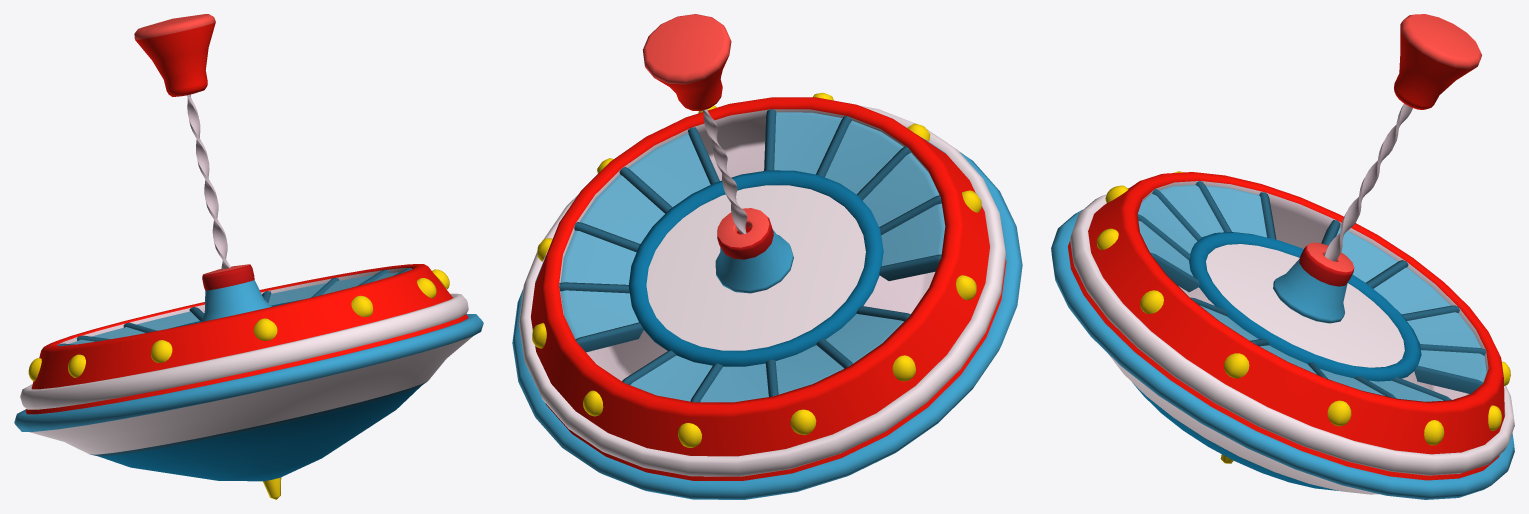
The model's file is spin.fbx.
3 views of the same model, side by side, from view 1: azimuth 30°, elevation 25°; view 2: azimuth 150°, elevation 25°; view 3: azimuth 270°, elevation 25° (orthographic). The views are drawn at different scales.
Visible parts, largest first — view 1: Spin_att_base_01; view 2: Spin_att_base_01; view 3: Spin_att_base_01.
Part boxes in pixels (x1,y1,x2,y2): Spin_att_base_01: [14, 14, 483, 499]; Spin_att_base_01: [512, 14, 1022, 499]; Spin_att_base_01: [1051, 14, 1514, 499].
Size of the model in its own units: 361 by 345 by 328.
